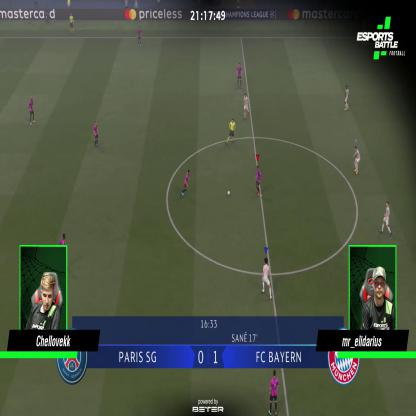ball: (227, 191, 230, 196)
